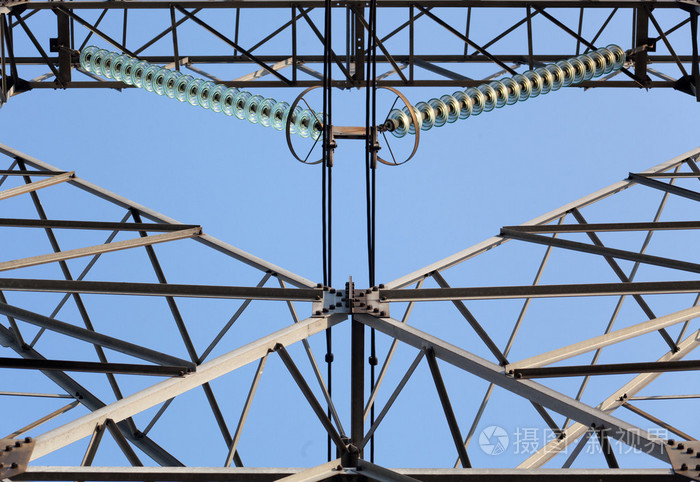insulator: (77, 45, 330, 142), (387, 45, 628, 139)
